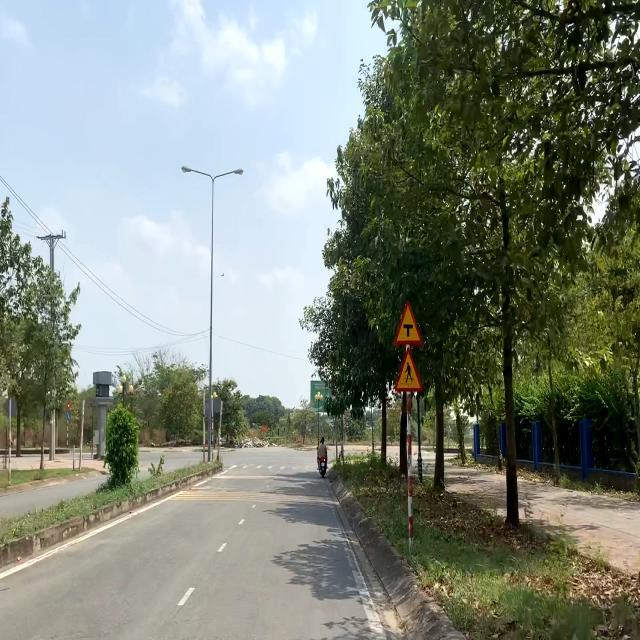Duong giao nhau cung cap: (393, 297, 423, 347)
Nguoi di bo cat ngang: (394, 346, 424, 394)
